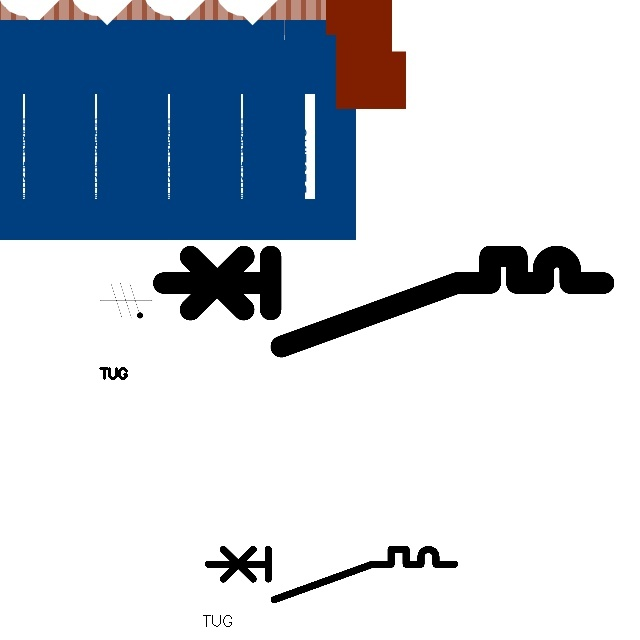interruptor_termomagnetico: (152, 245, 615, 358), (202, 543, 461, 606)
